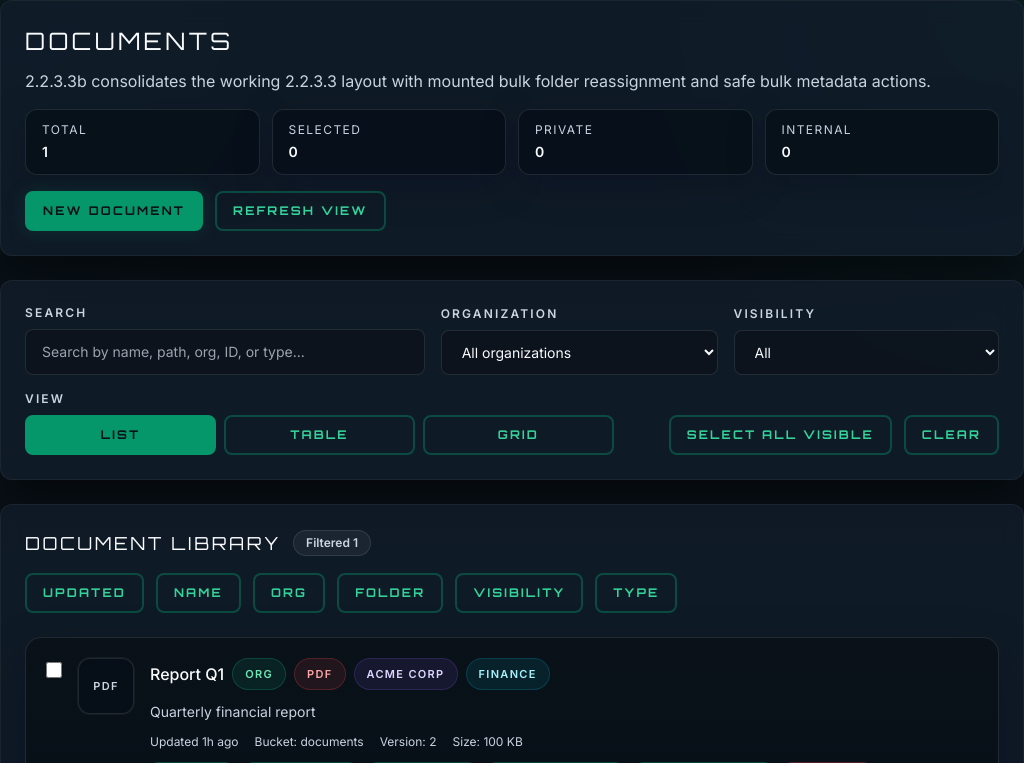
AdminDocumentsCenterClient › toast notifications › shows a shared toast when create is submitted without an organization
The image size is (1024, 763).
Click the button "New Document".
click(114, 211)  # box [25,191,203,231]
(page scrolled)
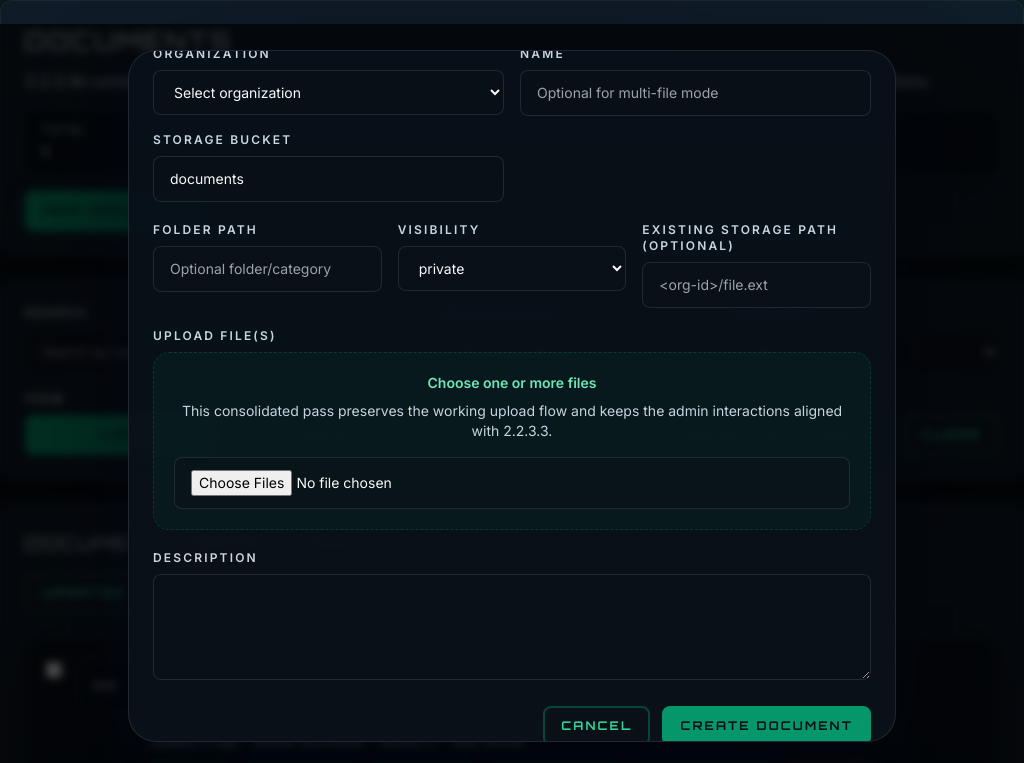
Submit the form named "Create Document"
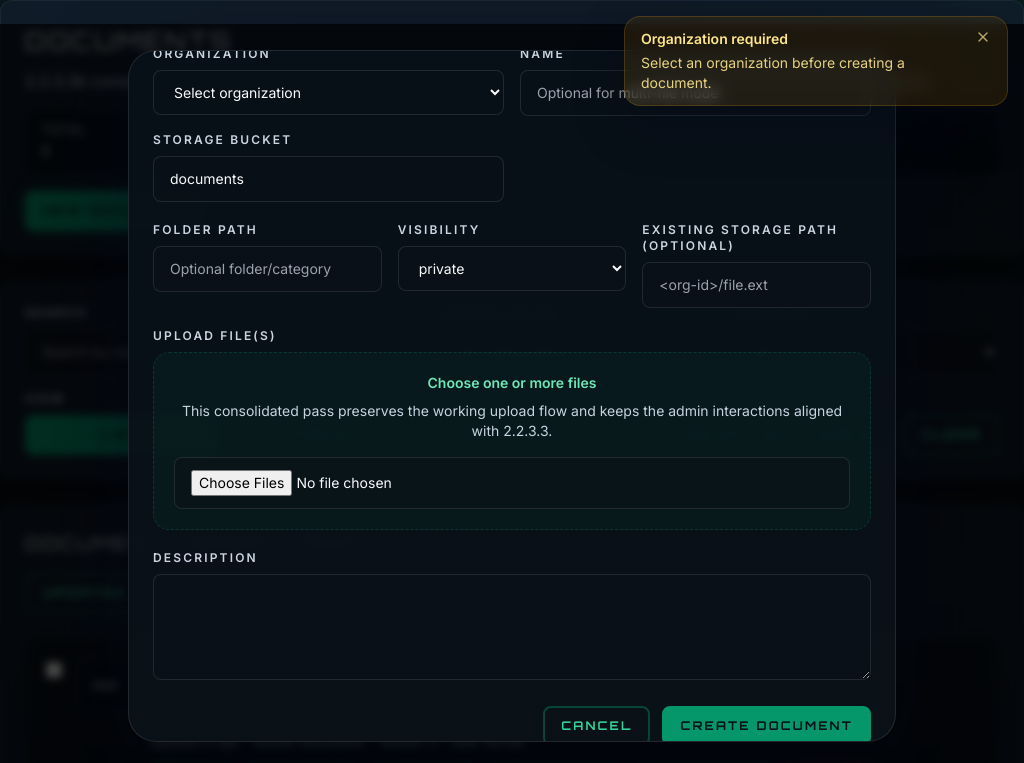
Expected: the text "Organization required" is shown, [641,30,788,47]
Expected: the text "Select an organization before creating a document." is shown, [641,53,949,93]
